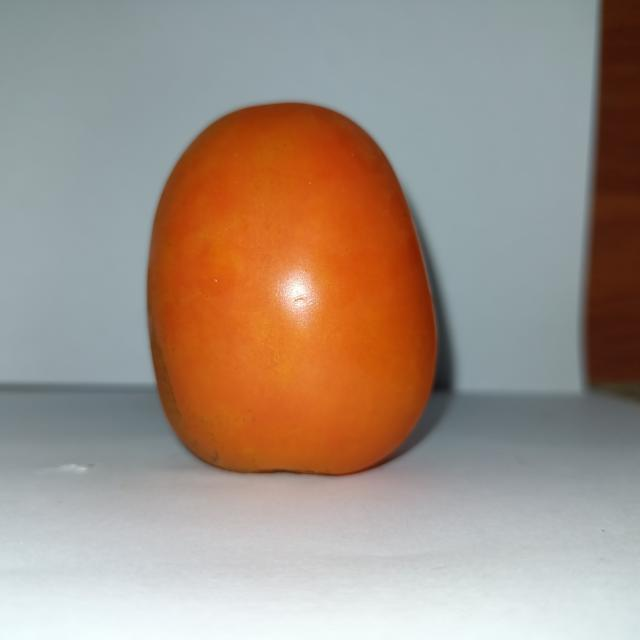Red: (144, 99, 440, 476)
